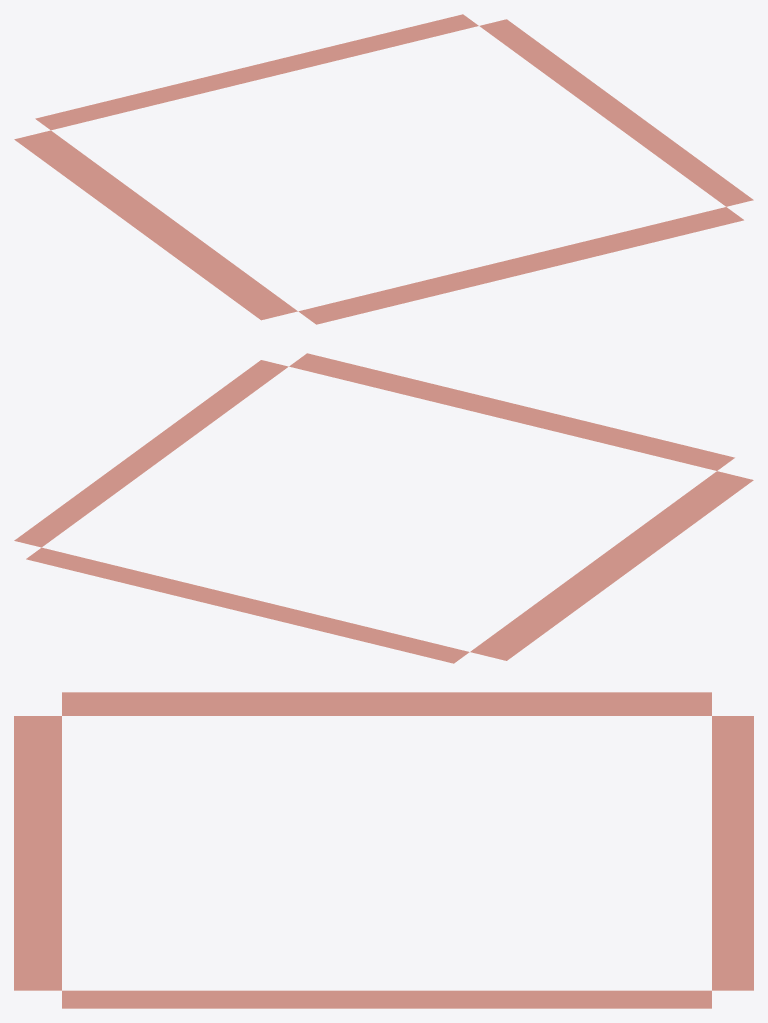
The model's file is Plane_002_Vlad.fbx.
3 views of the same model, one above another, from view 1: azimuth 30°, elevation 25°; view 2: azimuth 150°, elevation 25°; view 3: azimuth 270°, elevation 25° (orthographic). The views are drawn at different scales.
Visible parts, largest first — view 1: Plane.002; view 2: Plane.002; view 3: Plane.002.
Boxes of the visible parts, x1,y1,x2,y2 form: Plane.002: (14,14,753,324); Plane.002: (14,353,753,663); Plane.002: (14,692,753,1008).
Size of the model in its own units: 115 by 1.85e-05 by 114.
